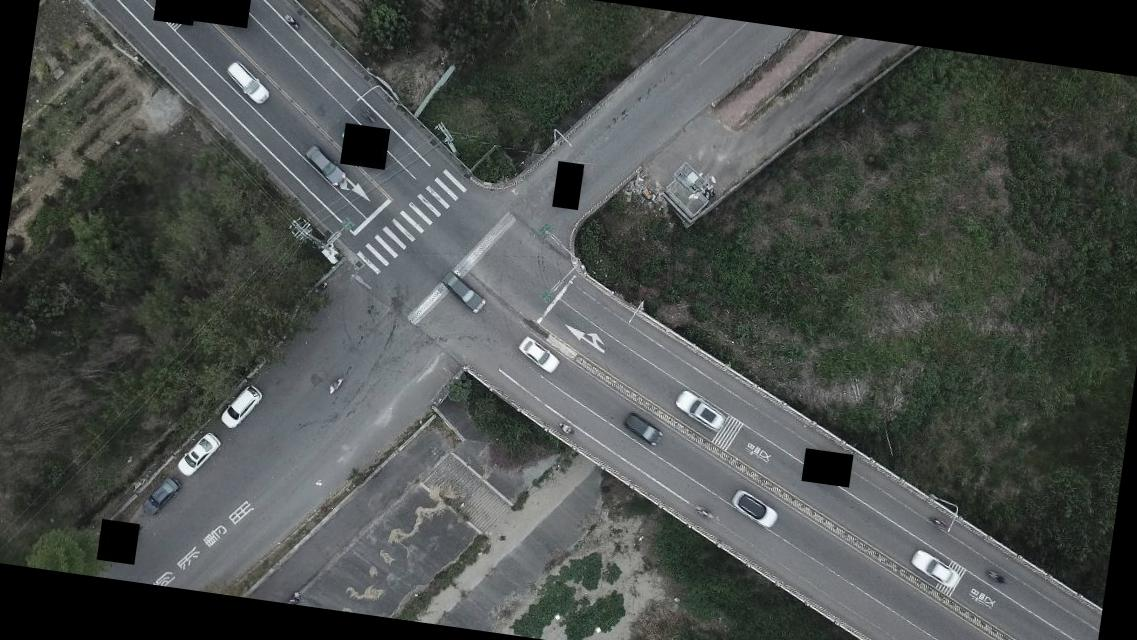vehicle: (220, 57, 273, 107), (668, 388, 728, 432), (218, 379, 263, 432), (300, 142, 349, 190), (906, 548, 963, 589), (175, 428, 220, 479), (727, 488, 781, 530), (512, 334, 564, 377), (438, 270, 488, 314), (137, 473, 180, 520), (618, 408, 666, 449)
